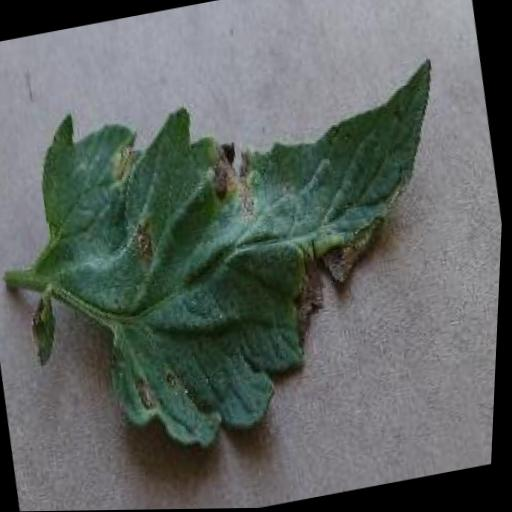Early Blight: (18, 42, 496, 484)
